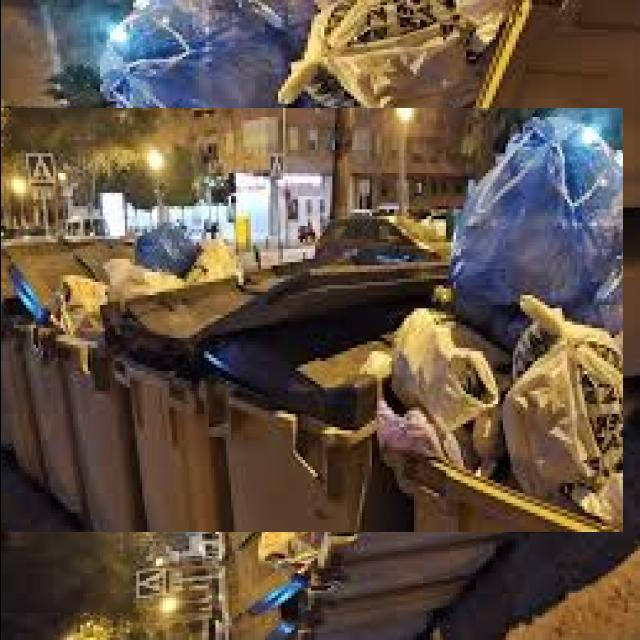garbage: (36, 54, 568, 586)
